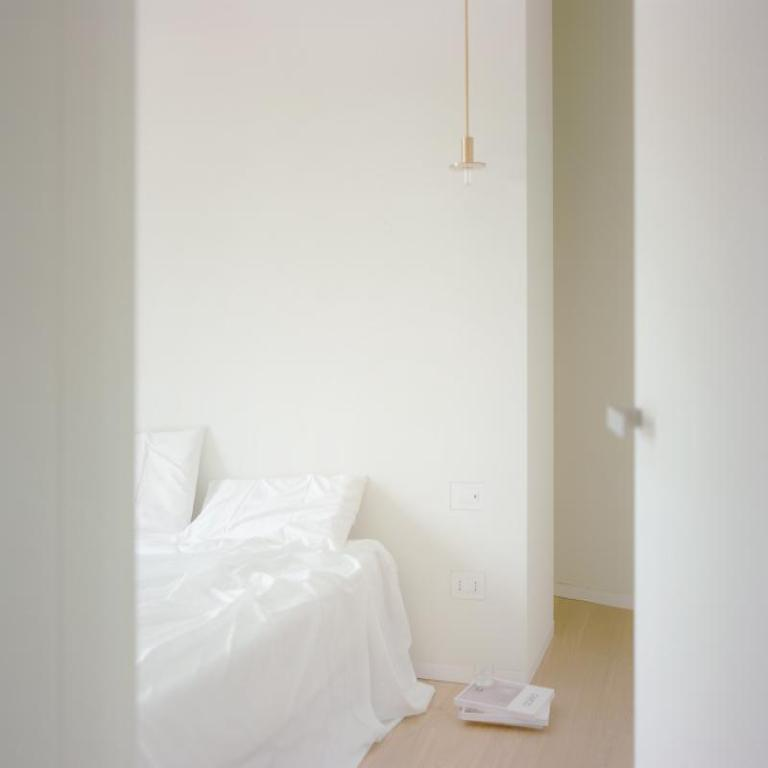white-walls: (170, 36, 439, 404)
